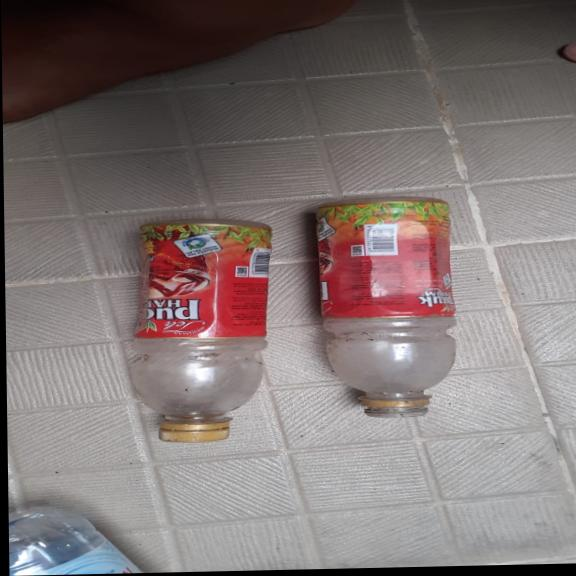Plastik: (125, 215, 280, 444), (310, 195, 461, 421), (8, 501, 149, 576)
